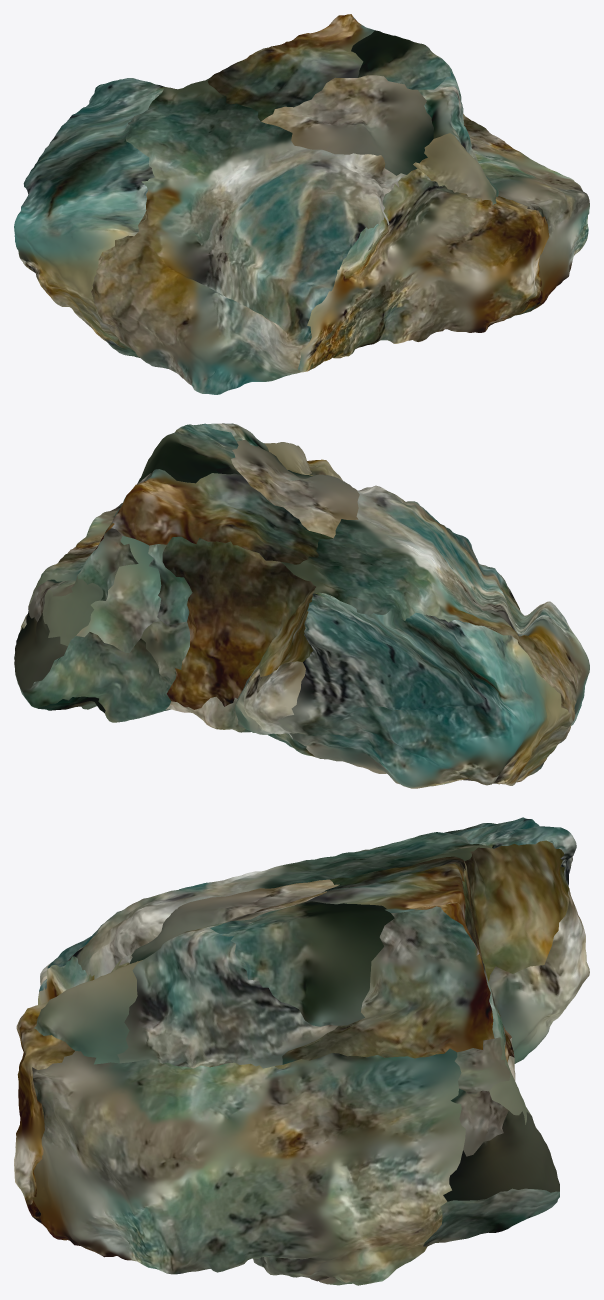
The model's file is amazonite.gltf.
3 views of the same model, one above another, from view 1: azimuth 30°, elevation 25°; view 2: azimuth 150°, elevation 25°; view 3: azimuth 270°, elevation 25° (orthographic). The views are drawn at different scales.
Visible parts, largest first — view 1: Object_2; view 2: Object_2; view 3: Object_2.
Part boxes in pixels (x1,y1,x2,y2): Object_2: (14, 14, 589, 394); Object_2: (14, 423, 589, 788); Object_2: (14, 817, 589, 1285).
Bounding box in the file's own units: 0.1779 × 0.0826 × 0.1288.
Materials: 1 (1 with a texture image).
